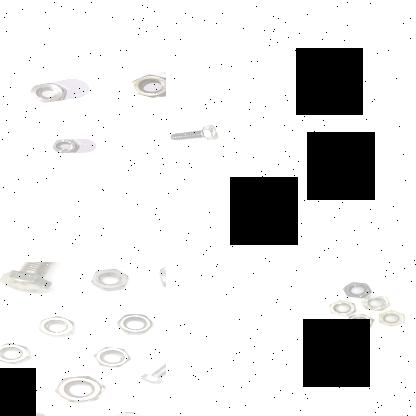Bolts: (0, 262, 68, 292), (134, 344, 166, 388), (168, 124, 221, 150), (0, 400, 51, 416)
NUTS: (52, 375, 112, 409), (84, 264, 128, 292), (90, 346, 136, 372), (0, 338, 33, 370), (35, 314, 79, 338), (113, 312, 160, 334), (340, 280, 376, 300), (326, 300, 362, 318), (358, 294, 394, 312), (346, 312, 377, 332), (374, 310, 405, 328), (150, 262, 166, 294)
